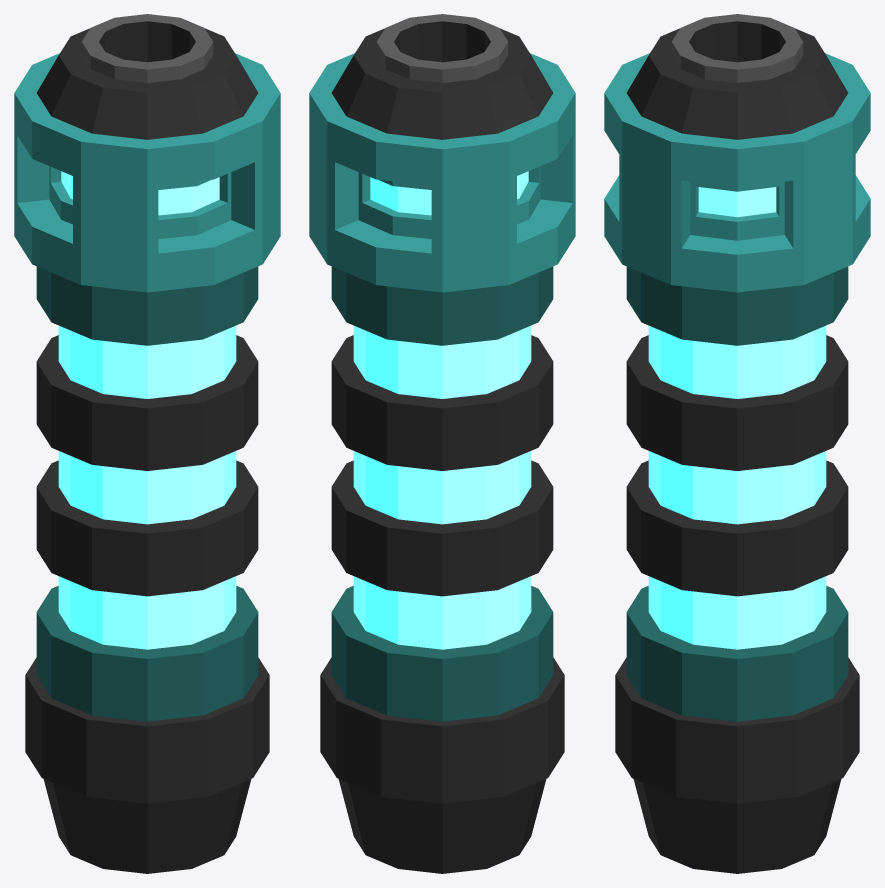
Rendered from EMP.fbx.
3 renders of one model, left to right at view 1: azimuth 30°, elevation 25°; view 2: azimuth 150°, elevation 25°; view 3: azimuth 270°, elevation 25°, orthographic.
Parts seen in each view (by area): view 1: Cylinder; view 2: Cylinder; view 3: Cylinder.
Boxes of the visible parts, box(x1,y1,x2,y2) form: Cylinder: box(14, 14, 280, 873); Cylinder: box(309, 14, 575, 873); Cylinder: box(604, 14, 870, 873).
Size of the model in its own units: 269 by 885 by 269.
